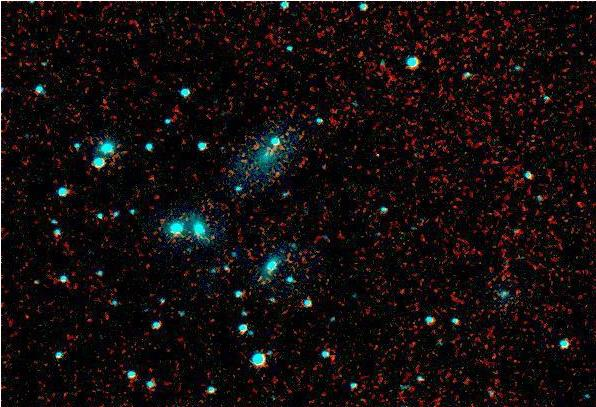star: (263, 161, 293, 191)
